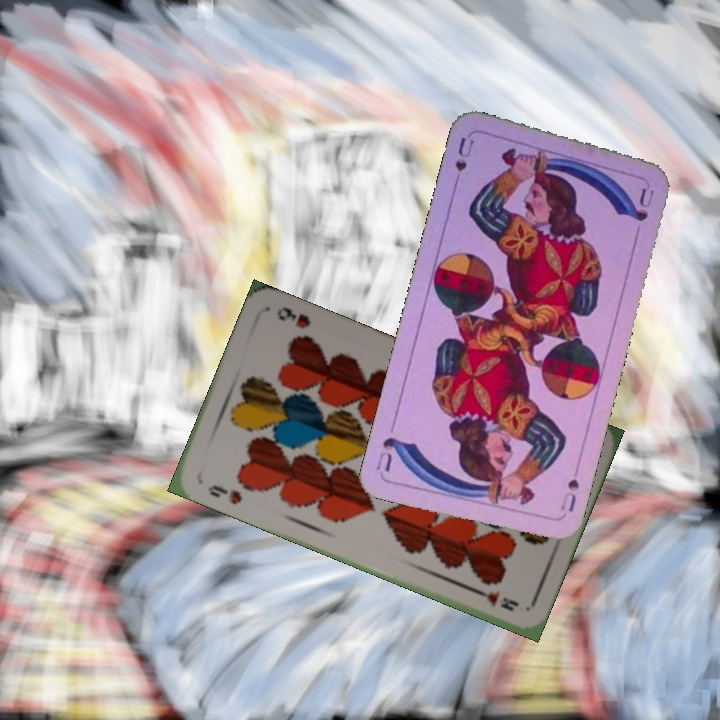H9: (203, 480, 245, 507)
SU: (449, 133, 477, 192), (556, 474, 582, 515)
